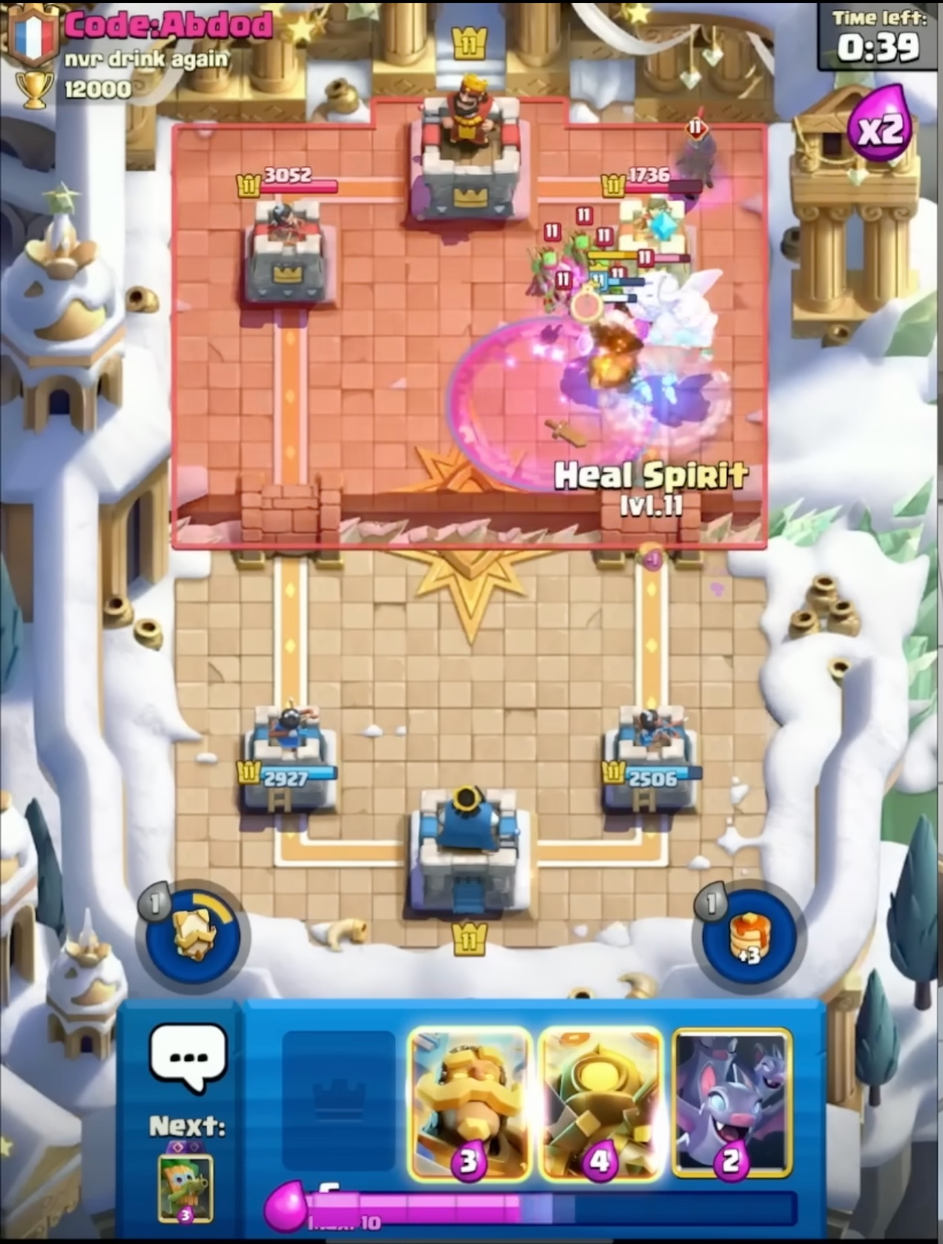evo-musketeer: (667, 110, 722, 209)
inferno-dragon: (626, 247, 728, 353)
spear-goblin: (567, 194, 597, 271), (528, 224, 566, 282)
